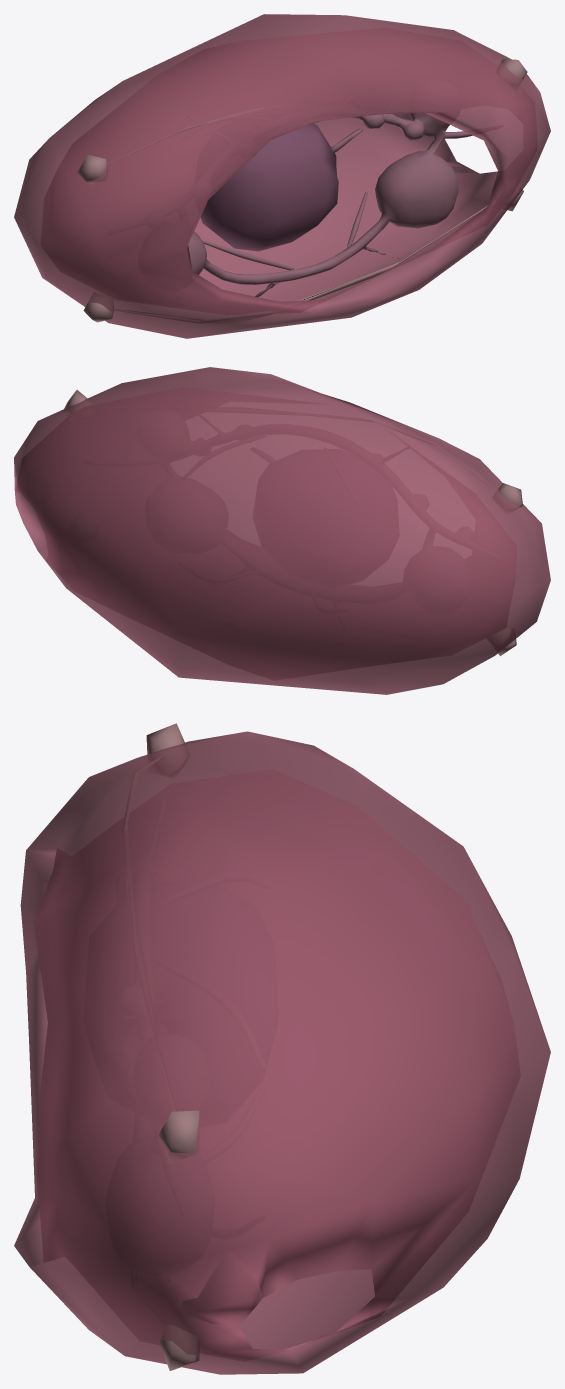
The model's file is cellular_interior_lod2.glb.
3 renders of one model, top to bottom at view 1: azimuth 30°, elevation 25°; view 2: azimuth 150°, elevation 25°; view 3: azimuth 270°, elevation 25°, orthographic. The views are drawn at different scales.
Parts seen in each view (by area): view 1: intact soft cortex.001, irregular nuclear envelope.001, Connected_Endoplasmic_Anatomy.001, tensioned cortical fiber.003, cortical anchor.004, cortical anchor.006, cortical anchor.005, cytoplasmic suspension web.006, tensioned cortical fiber.002; view 2: intact soft cortex.001, cortical anchor.004, cortical anchor.006; view 3: intact soft cortex.001, cortical anchor.004, cortical anchor.005, cortical anchor.007.
Boxes of the visible parts, x1=… form: intact soft cortex.001: x1=14, y1=14, x2=550, y2=338; irregular nuclear envelope.001: x1=200, y1=124, x2=338, y2=251; Connected_Endoplasmic_Anatomy.001: x1=187, y1=113, x2=472, y2=296; tensioned cortical fiber.003: x1=114, y1=205, x2=487, y2=323; cortical anchor.004: x1=77, y1=154, x2=107, y2=183; cortical anchor.006: x1=83, y1=292, x2=113, y2=322; cortical anchor.005: x1=496, y1=59, x2=527, y2=91; cytoplasmic suspension web.006: x1=202, y1=240, x2=293, y2=270; tensioned cortical fiber.002: x1=107, y1=76, x2=497, y2=164; intact soft cortex.001: x1=14, y1=367, x2=550, y2=694; cortical anchor.004: x1=492, y1=483, x2=522, y2=516; cortical anchor.006: x1=486, y1=626, x2=516, y2=656; intact soft cortex.001: x1=14, y1=731, x2=550, y2=1374; cortical anchor.004: x1=146, y1=723, x2=190, y2=780; cortical anchor.005: x1=158, y1=1110, x2=199, y2=1163; cortical anchor.007: x1=158, y1=1325, x2=199, y2=1370.
Size of the model in its own units: 5.81 by 3.12 by 2.99.
